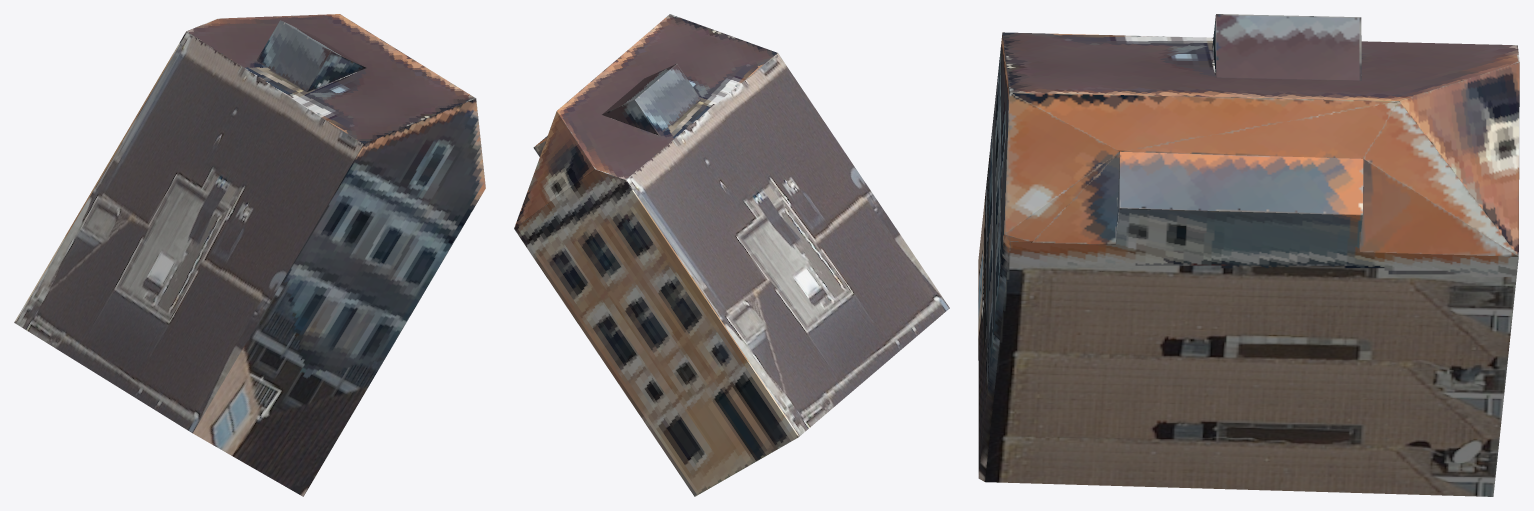
3 renders of one model, left to right at view 1: azimuth 30°, elevation 25°; view 2: azimuth 150°, elevation 25°; view 3: azimuth 270°, elevation 25°, orthographic. The views are drawn at different scales.
Parts seen in each view (by area): view 1: BAG_0599100000688730 (×4); view 2: BAG_0599100000688730 (×6); view 3: BAG_0599100000688730 (×5).
Boxes of the visible parts, left/top/right/bottom form: BAG_0599100000688730 (×4): left=14, top=14, right=485, bottom=496; BAG_0599100000688730 (×6): left=514, top=14, right=949, bottom=496; BAG_0599100000688730 (×5): left=978, top=14, right=1519, bottom=496.
Bounding box in the file's own units: 13.86 × 14.87 × 12.92.
5 materials, 5 textured.
